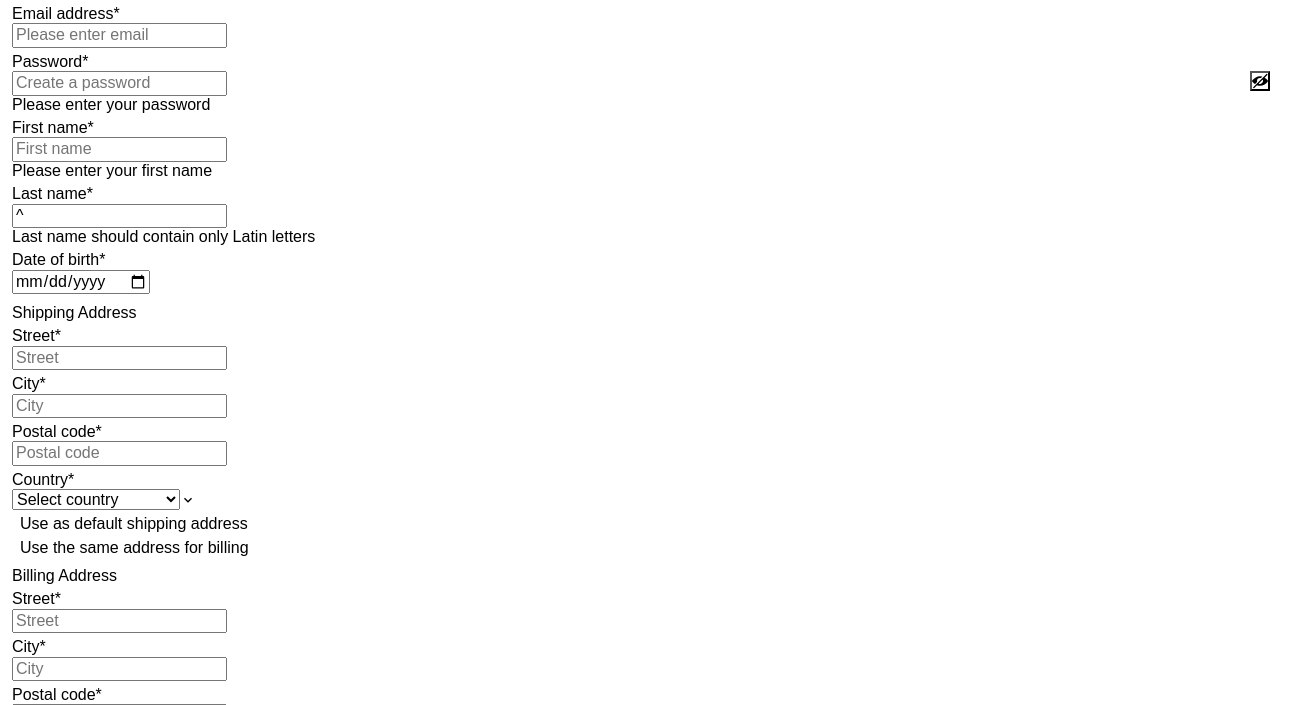
SignUpForm › should say if no lastname is entered
Clear the field with placeholder "Last name": {"x": 120, "y": 216} [12, 204, 227, 228]
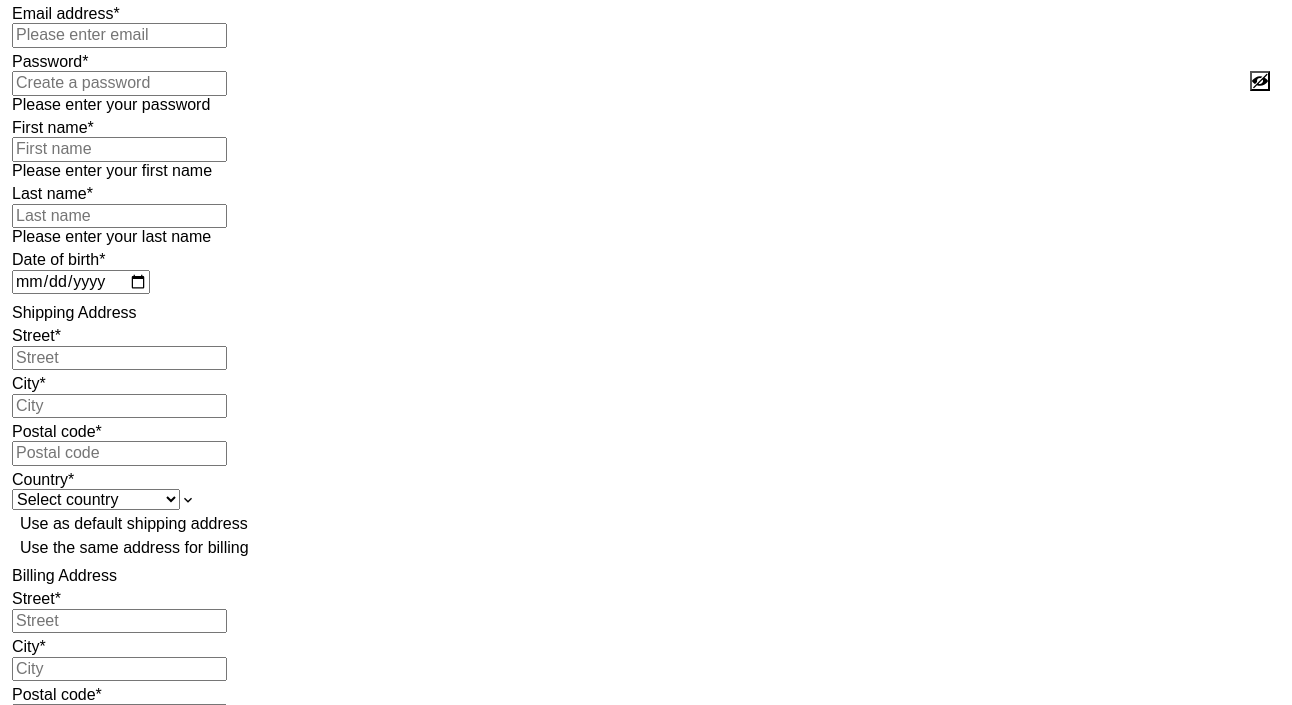
Now the text "Please enter your last name" is shown, box [12, 228, 211, 245]
